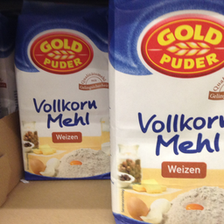flour: (109, 1, 224, 223), (15, 7, 113, 181)
